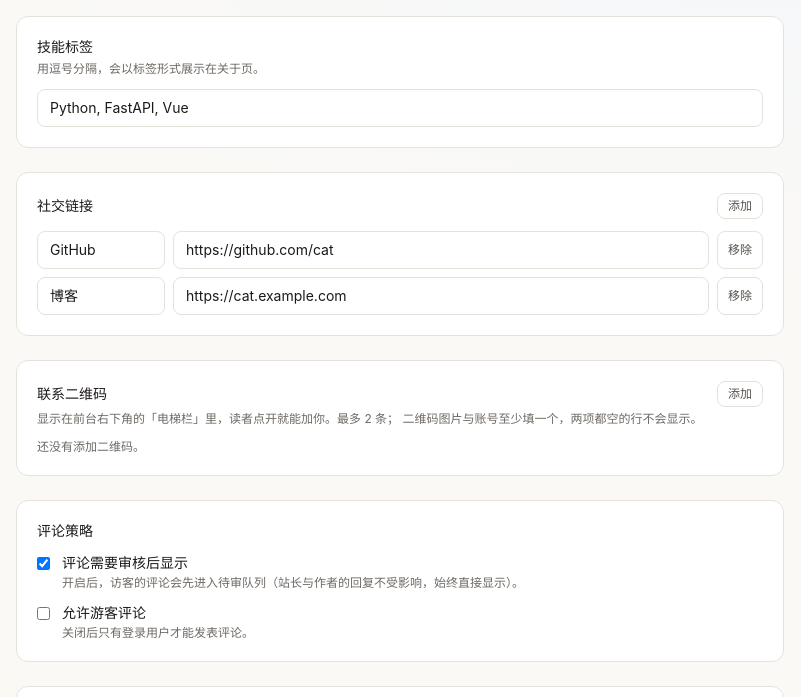
it: SettingsView · 联系二维码 › 未配置时显示空态文案，点「添加」追加一条默认微信行
The width and height of the screenshot is (801, 697).
(page scrolled)
Check: the element that starts with "联系二维码" shows "还没有添加二维码。", box top-left (37, 439), bottom-right (145, 454)
Click the button "添加" in the row of "联系二维码": point(740, 394) top-left (717, 381), bottom-right (763, 407)
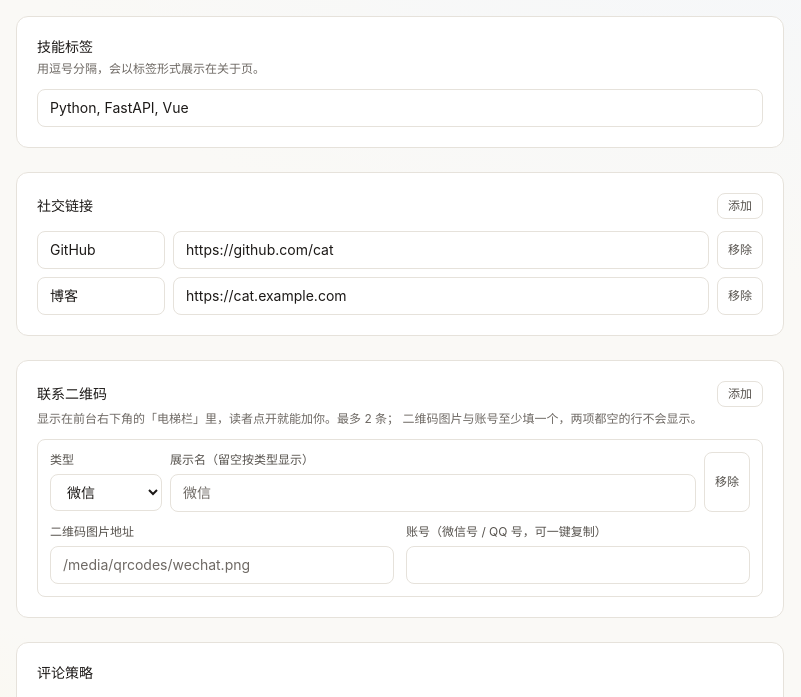
Check: the text "还没有添加二维码。" is gone
Check: the dropdown labelled "类型" shows "微信", box top-left (50, 474), bottom-right (162, 511)
